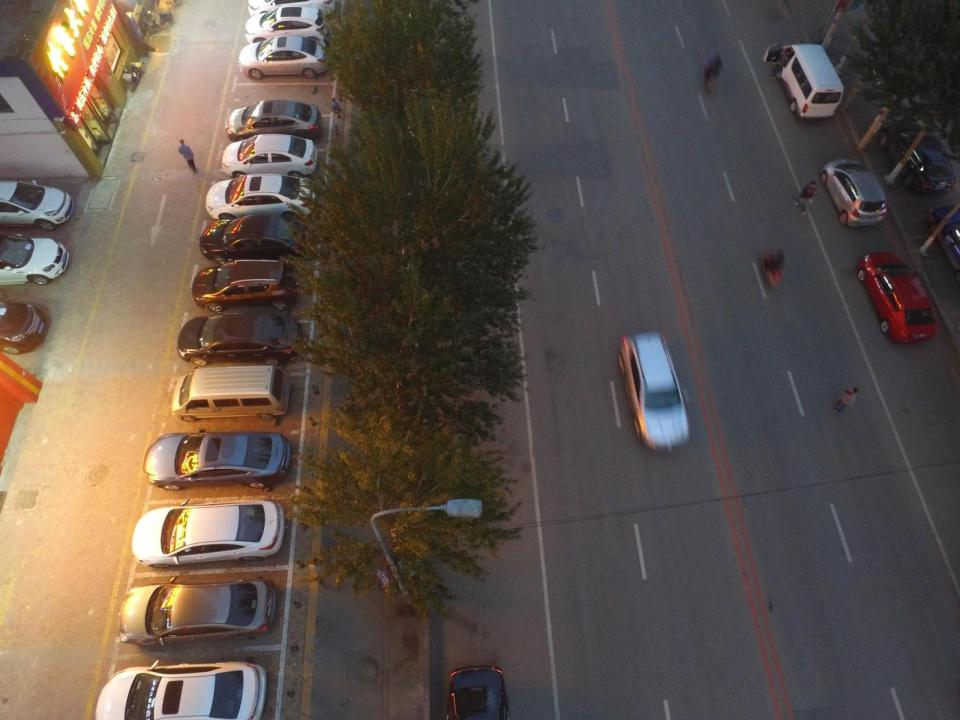car: (117, 586, 275, 647), (90, 665, 270, 717), (142, 433, 292, 492), (130, 508, 286, 564), (858, 251, 939, 346), (177, 309, 302, 365), (192, 258, 304, 308), (880, 119, 955, 193), (199, 219, 319, 261), (822, 156, 888, 227), (204, 177, 316, 217), (0, 228, 67, 292), (239, 38, 333, 80), (224, 102, 320, 142), (0, 178, 77, 227), (444, 664, 512, 716), (244, 6, 333, 45), (226, 140, 316, 175), (0, 297, 48, 354)
van: (616, 332, 692, 453), (762, 36, 842, 122), (174, 364, 292, 421)
